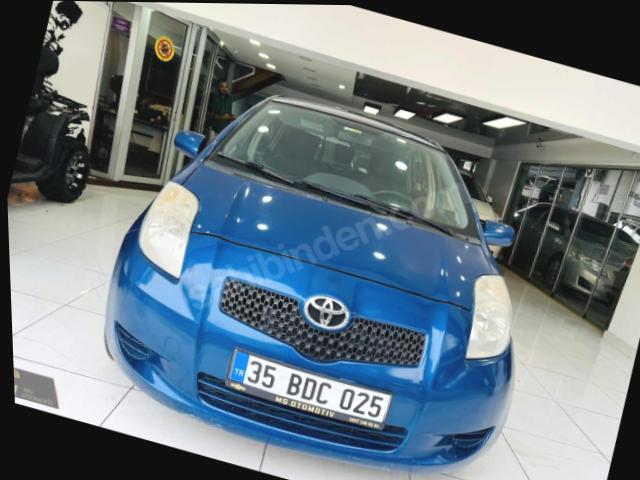plaka: (226, 349, 392, 428)
